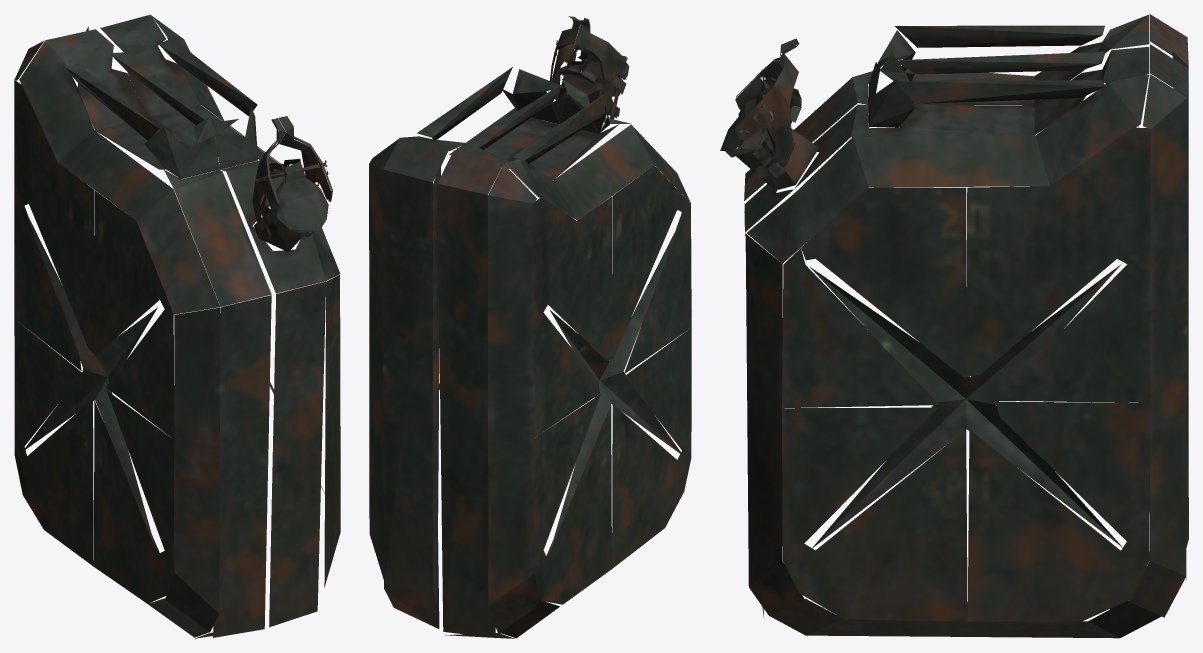
The model's file is prop_jerrycan.glb.
The picture shows the model from 3 angles, left to right: view 1: azimuth 30°, elevation 25°; view 2: azimuth 150°, elevation 25°; view 3: azimuth 270°, elevation 25°; orthographic projection. The views are drawn at different scales.
Parts seen in each view (by area): view 1: hull; view 2: hull; view 3: hull.
Part boxes in pixels (<box>): hull: <box>14,14,340,638</box>; hull: <box>369,16,691,638</box>; hull: <box>720,14,1188,638</box>.
Bounding box in the file's own units: 0.9982 × 2.76 × 2.
1 material, 1 textured.
